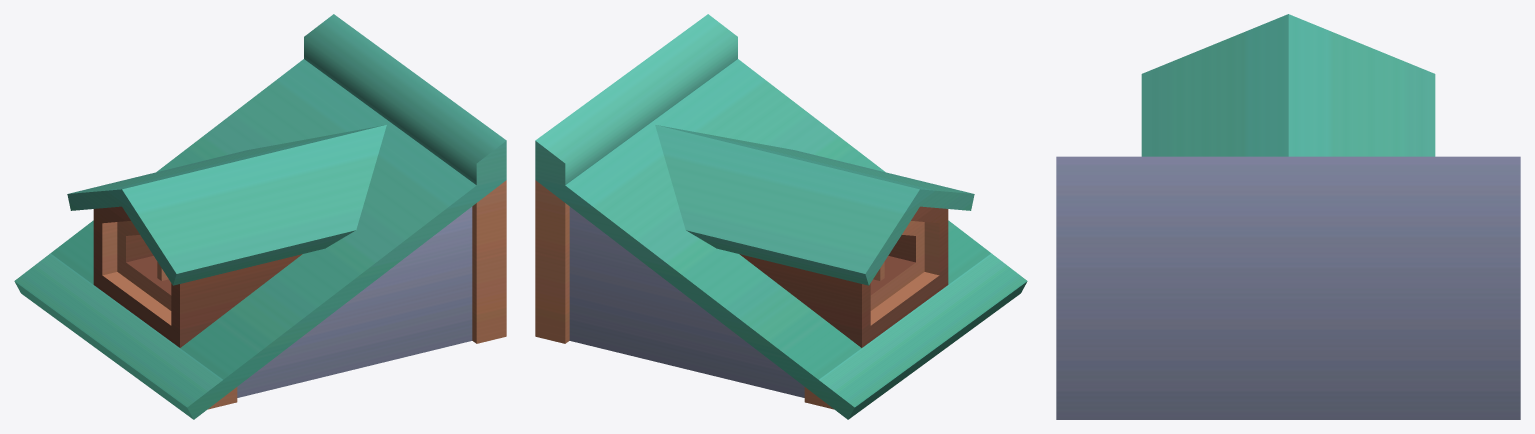
File: roof-window.glb
3 views of the same model, side by side, from view 1: azimuth 30°, elevation 25°; view 2: azimuth 150°, elevation 25°; view 3: azimuth 270°, elevation 25° (orthographic). The views are drawn at different scales.
Parts seen in each view (by area): view 1: roof-window; view 2: roof-window; view 3: roof-window.
Part boxes in pixels (<box>): roof-window: <box>14,14,506,419</box>; roof-window: <box>535,14,1027,419</box>; roof-window: <box>1056,14,1520,419</box>.
Size of the model in its own units: 1.07 by 0.6483 by 1.
1 material, 1 textured.
